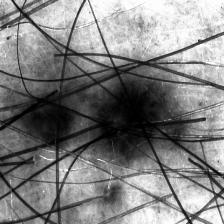Benign Marking or Mole: (16, 85, 170, 155)
